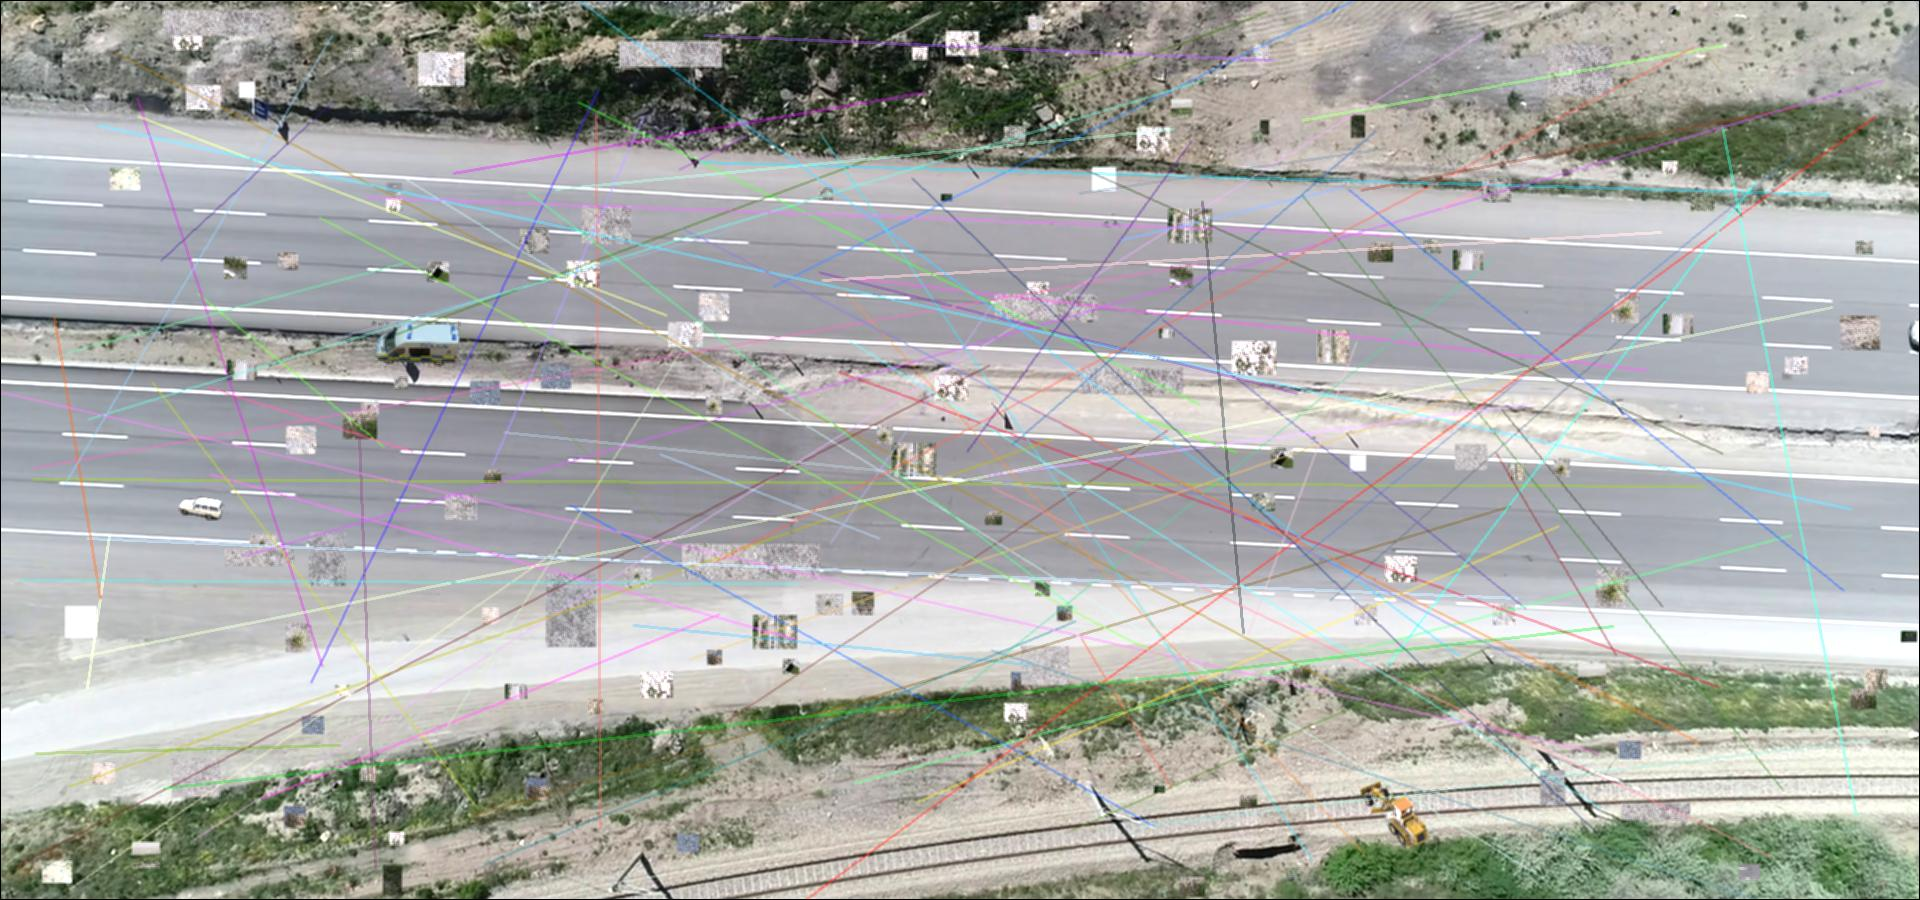arac: (1357, 780, 1430, 851), (372, 321, 460, 367), (179, 496, 224, 520)
